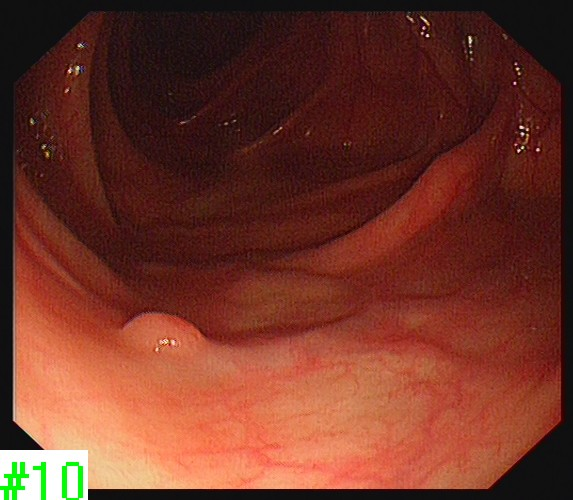adenoma: (113, 303, 216, 356)
